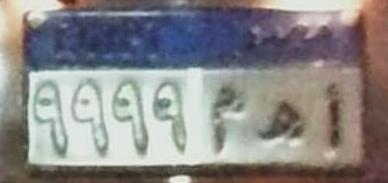9: (109, 79, 151, 163), (67, 78, 109, 159), (31, 75, 68, 158), (152, 78, 192, 153)
alif: (316, 78, 347, 158)
haa: (254, 89, 303, 151)
meem: (211, 84, 248, 151)
